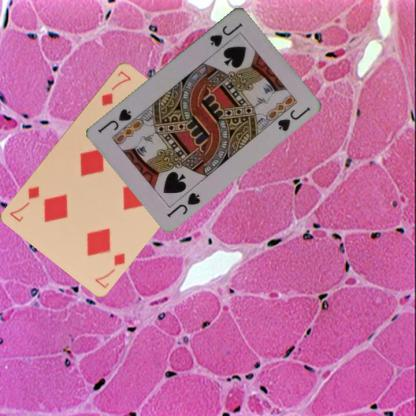7d: (92, 249, 127, 290), (99, 67, 132, 107)
Js: (164, 189, 203, 218), (207, 20, 244, 48)
